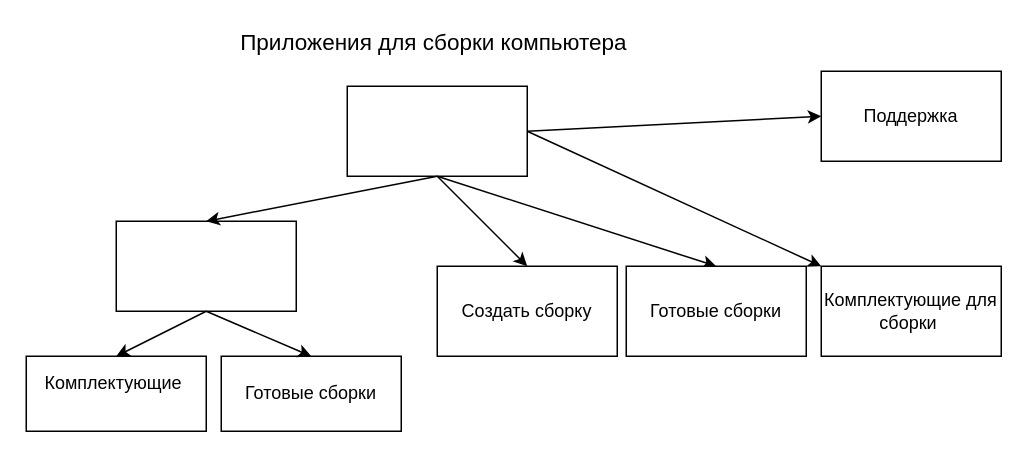
The diagram is 1028 pixels wide and 458 high, and some of its shapes have lost their labels. Here are the shapes that lost their labels. From the top down, the centre of each, then its label:
point 436,130: Главный экран
point 205,265: Корзина
